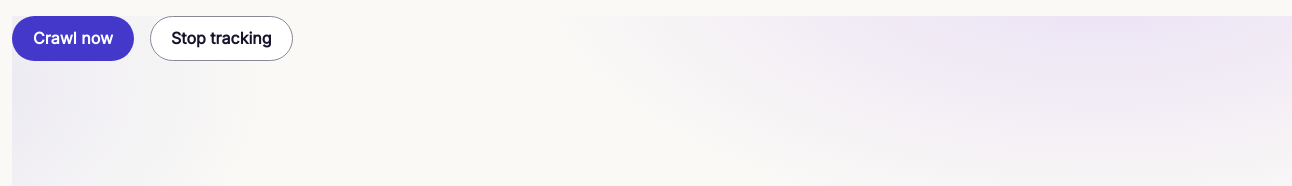
Test: CompanyActions › lets an admin stop tracking a tracked company
Click the button named "Stop tracking Monzo" at (221, 39), box [150,16,292,61]
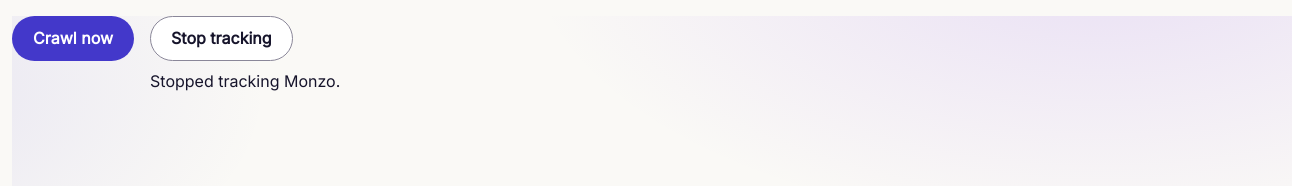
Result: the message reads "Stopped tracking Monzo." at [150,71,340,91]
